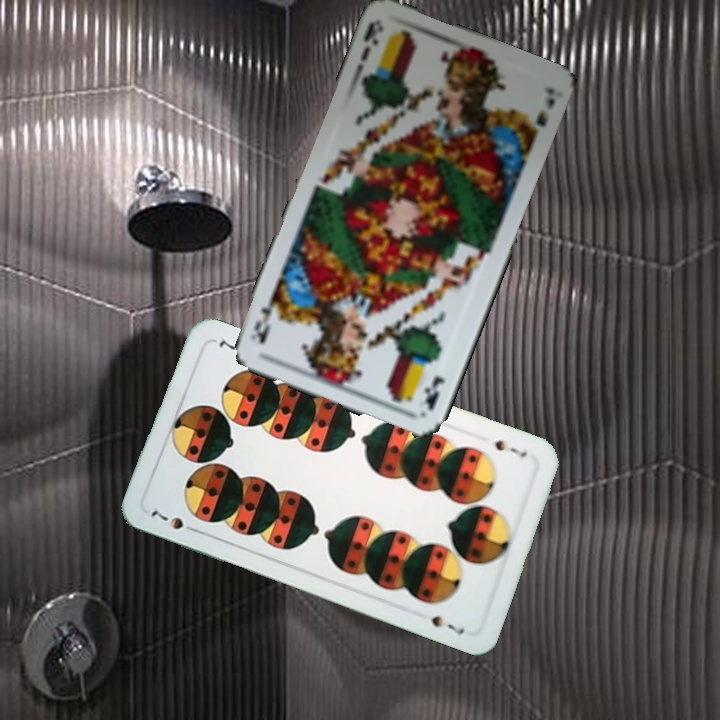EK: (356, 17, 387, 63), (420, 372, 448, 413)
S7: (147, 506, 201, 535), (491, 436, 530, 460)
